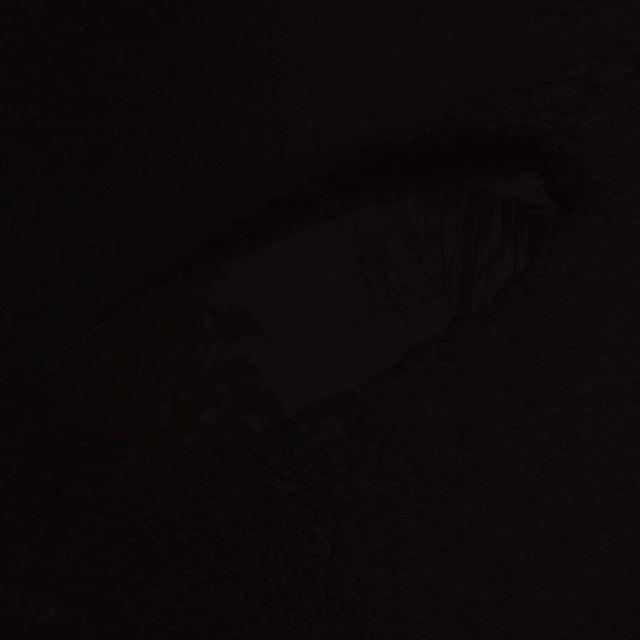Pothole: (0, 93, 606, 444)
